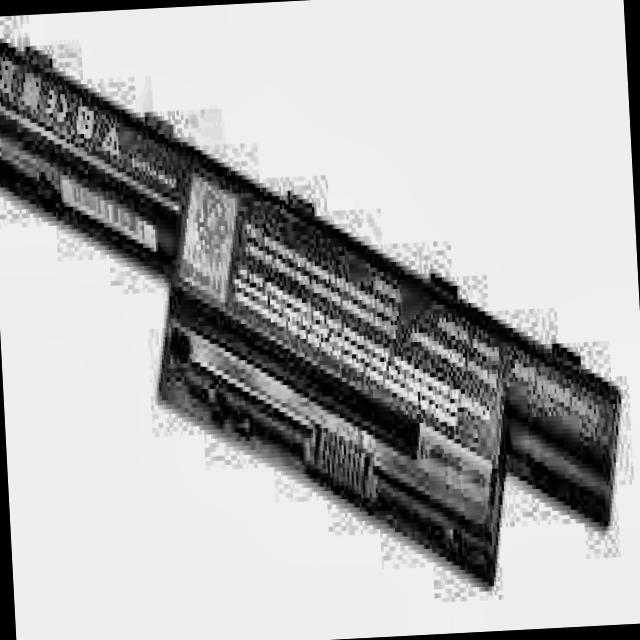Battery: (0, 0, 627, 610)
